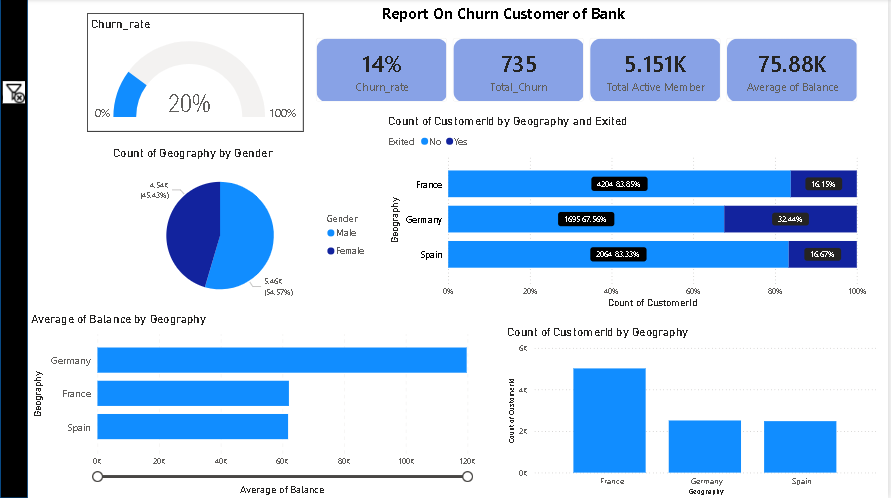

What the dashboard file says about the page in this screenshot:
{"tool":"powerbi","page":{"name":"Overviews ","canvas":[1280,720],"ordinal":0},"visuals":[{"type":"pieChart","fields":{"Category":["Bank_Churn.Gender"],"Y":["CountNonNull(Bank_Churn.Geography)"]},"box":[158.4,211.7,383,239],"z":0},{"type":"clusteredColumnChart","fields":{"Category":["Bank_Churn.Geography"],"Y":["CountNonNull(Bank_Churn.CustomerId)"]},"box":[725.8,469.4,544.3,250.6],"z":1000},{"type":"barChart","fields":{"Category":["Bank_Churn.Geography"],"Y":["Avg(Bank_Churn.Balance)"]},"box":[40.3,450.7,650.9,269.3],"z":2000},{"type":"textbox","box":[400.3,0,649.4,41.8],"z":3000},{"type":"gauge","fields":{"Y":["Bank_Churn.Churn_rate"]},"box":[125.3,20.2,312.5,171.4],"z":4000},{"type":"hundredPercentStackedBarChart","fields":{"Category":["Bank_Churn.Geography"],"Y":["CountNonNull(Bank_Churn.CustomerId)"],"Series":["Bank_Churn.Exited"]},"box":[554.4,165.6,698.4,285.1],"z":5000},{"type":"cardVisual","fields":{"Data":["Bank_Churn.Churn_rate","Bank_Churn.Total_Churn","CountNonNull(Bank_Churn.IsActiveMember)","Avg(Bank_Churn.Balance)"]},"box":[437.8,38.9,815,126.7],"z":6000},{"type":"shape","box":[0,0,40.3,719],"z":7000},{"type":"actionButton","box":[0,101.7,40,63.3],"z":8000}]}

Visuals, with their boxes on the page's 1280x720 design canvas (x1, y1, x2, y2). These are canvas units, not pixel positions in the 891x498 screenshot, which may show the page scaled, cropped or inside an application window:
pieChart - Bank_Churn.Gender x CountNonNull(Bank_Churn.Geography): x1=158, y1=212, x2=541, y2=451
clusteredColumnChart - Bank_Churn.Geography x CountNonNull(Bank_Churn.CustomerId): x1=726, y1=469, x2=1270, y2=720
barChart - Bank_Churn.Geography x Avg(Bank_Churn.Balance): x1=40, y1=451, x2=691, y2=720
textbox: x1=400, y1=0, x2=1050, y2=42
gauge - Bank_Churn.Churn_rate: x1=125, y1=20, x2=438, y2=192
hundredPercentStackedBarChart - Bank_Churn.Geography x CountNonNull(Bank_Churn.CustomerId): x1=554, y1=166, x2=1253, y2=451
cardVisual - Bank_Churn.Churn_rate x Bank_Churn.Total_Churn: x1=438, y1=39, x2=1253, y2=166
shape: x1=0, y1=0, x2=40, y2=719
actionButton: x1=0, y1=102, x2=40, y2=165
